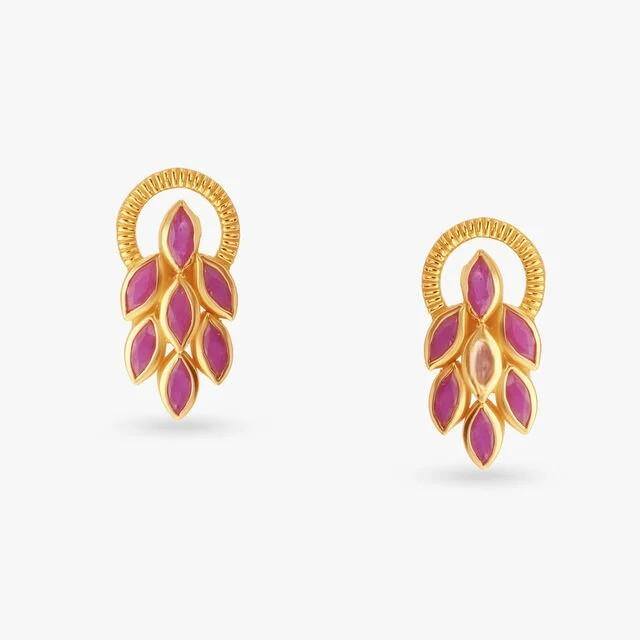missing gem: (467, 333, 497, 390)
